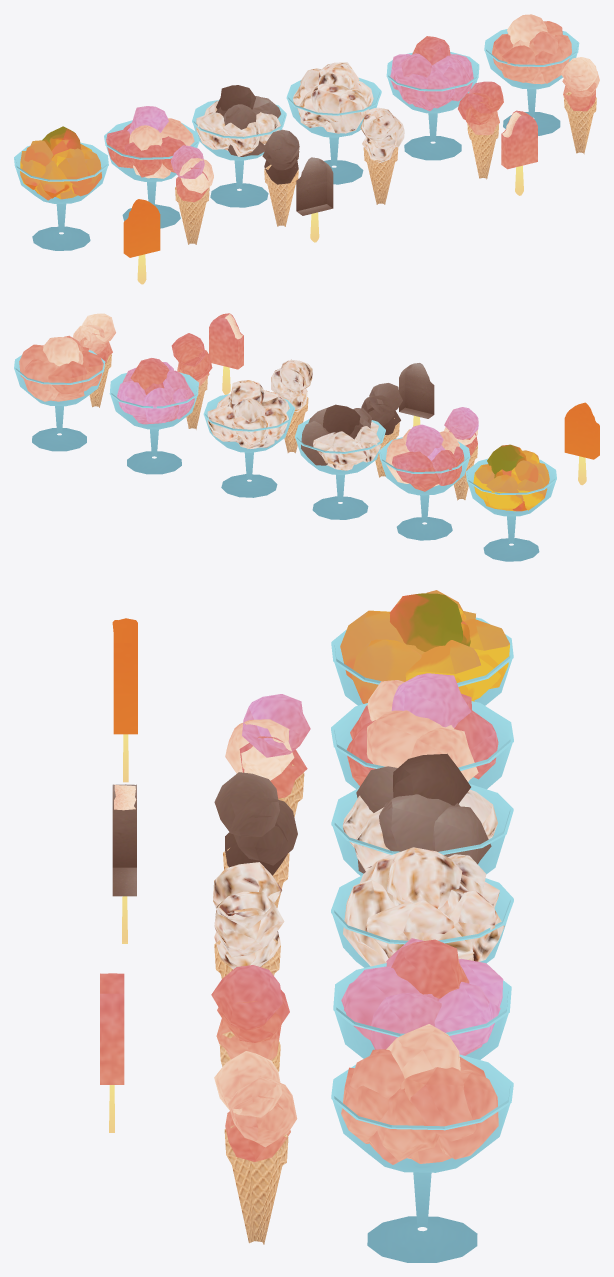
3 views of the same model, one above another, from view 1: azimuth 30°, elevation 25°; view 2: azimuth 150°, elevation 25°; view 3: azimuth 270°, elevation 25° (orthographic). The views are drawn at different scales.
Parts seen in each view (by area): view 1: ice_cream_cup_4, ice_cream_cup.004_8, ice_cream_cup.002_6, ice_cream_cup.003_7, ice_cream_cup.005_9, ice_cream_cup.001_5, ice_cream_cone.001_10, ice_cream_cone_3, ice_cream_cone.003_12, ice_cream_cone.002_11, ice_cream_cone.004_13, ice_cream_pop_1 (+2 smaller); view 2: ice_cream_cup.002_6, ice_cream_cup_4, ice_cream_cup.003_7, ice_cream_cup.005_9, ice_cream_cup.001_5, ice_cream_cup.004_8, ice_cream_cone.001_10, ice_cream_pop_1, ice_cream_pop.002_2, ice_cream_cone.003_12, ice_cream_pop.001_0, ice_cream_cone.004_13 (+2 smaller); view 3: ice_cream_cup.005_9, ice_cream_cup.003_7, ice_cream_cup.004_8, ice_cream_cup.002_6, ice_cream_cup_4, ice_cream_cup.001_5, ice_cream_cone.004_13, ice_cream_cone.001_10, ice_cream_cone.002_11, ice_cream_cone_3, ice_cream_cone.003_12, ice_cream_pop_1 (+2 smaller).
Boxes of the visible parts, bbox=[...] form: ice_cream_cup_4: bbox=[14, 126, 108, 250]; ice_cream_cup.004_8: bbox=[386, 36, 479, 160]; ice_cream_cup.002_6: bbox=[192, 85, 286, 207]; ice_cream_cup.003_7: bbox=[286, 62, 381, 184]; ice_cream_cup.005_9: bbox=[484, 14, 579, 135]; ice_cream_cup.001_5: bbox=[104, 106, 199, 228]; ice_cream_cone.001_10: bbox=[360, 107, 404, 204]; ice_cream_cone_3: bbox=[170, 145, 213, 244]; ice_cream_cone.003_12: bbox=[458, 81, 503, 179]; ice_cream_cone.002_11: bbox=[262, 129, 299, 226]; ice_cream_cone.004_13: bbox=[560, 57, 599, 154]; ice_cream_pop_1: bbox=[123, 199, 160, 284]; ice_cream_cup.002_6: bbox=[295, 404, 385, 519]; ice_cream_cup_4: bbox=[466, 444, 556, 561]; ice_cream_cup.003_7: bbox=[203, 380, 294, 497]; ice_cream_cup.005_9: bbox=[14, 335, 105, 451]; ice_cream_cup.001_5: bbox=[379, 424, 470, 540]; ice_cream_cup.004_8: bbox=[109, 358, 198, 474]; ice_cream_cone.001_10: bbox=[271, 359, 312, 453]; ice_cream_pop_1: bbox=[564, 402, 599, 485]; ice_cream_pop.002_2: bbox=[209, 313, 243, 394]; ice_cream_cone.003_12: bbox=[171, 333, 212, 429]; ice_cream_pop.001_0: bbox=[399, 363, 434, 426]; ice_cream_cone.004_13: bbox=[72, 313, 115, 407]; ice_cream_cup.005_9: bbox=[331, 1024, 513, 1262]; ice_cream_cup.003_7: bbox=[331, 847, 513, 967]; ice_cream_cup.004_8: bbox=[333, 938, 511, 1059]; ice_cream_cup.002_6: bbox=[331, 753, 513, 875]; ice_cream_cup_4: bbox=[331, 590, 513, 705]; ice_cream_cup.001_5: bbox=[331, 673, 513, 789]; ice_cream_cone.004_13: bbox=[214, 1051, 297, 1244]; ice_cream_cone.001_10: bbox=[213, 862, 284, 978]; ice_cream_cone.002_11: bbox=[214, 772, 297, 907]; ice_cream_cone_3: bbox=[225, 694, 310, 817]; ice_cream_cone.003_12: bbox=[211, 965, 289, 1071]; ice_cream_pop_1: bbox=[112, 618, 137, 782].
Size of the model in its own units: 0.9288 by 0.1735 by 0.3145.
Materials: 1 (1 with a texture image).
